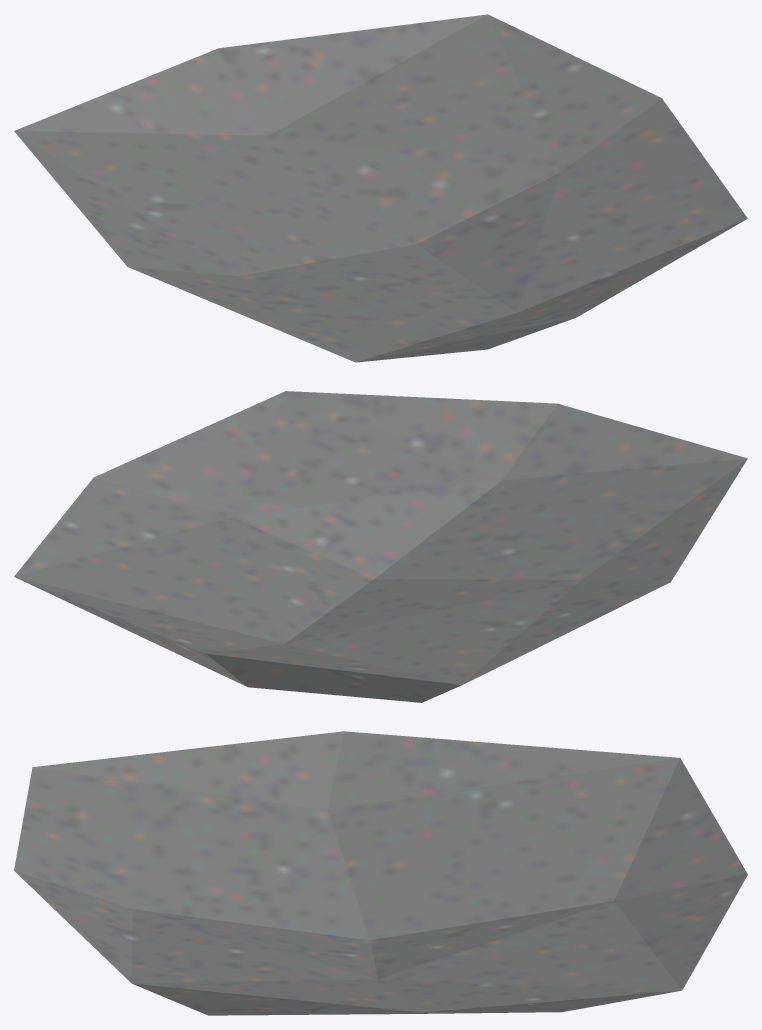
Rendered from bullet decal.glb.
3 views of the same model, one above another, from view 1: azimuth 30°, elevation 25°; view 2: azimuth 150°, elevation 25°; view 3: azimuth 270°, elevation 25° (orthographic). The views are drawn at different scales.
Visible parts, largest first — view 1: Cube; view 2: Cube; view 3: Cube.
Part boxes in pixels (x1,y1,x2,y2): Cube: (14, 14, 747, 362); Cube: (14, 391, 747, 702); Cube: (14, 731, 747, 1015).
Bounding box in the file's own units: 0.1116 × 0.016 × 0.1232.
1 material, 1 textured.
